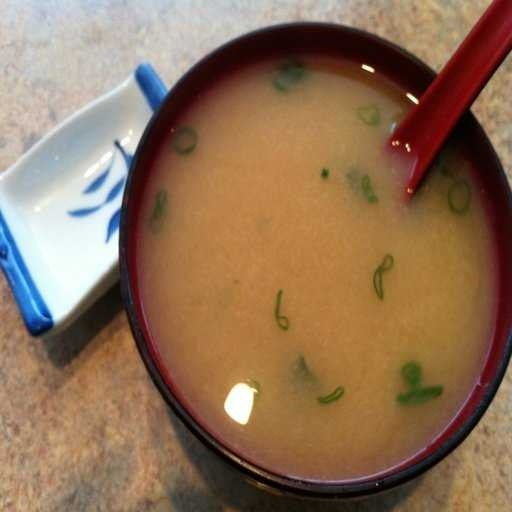soup: (137, 71, 490, 474)
